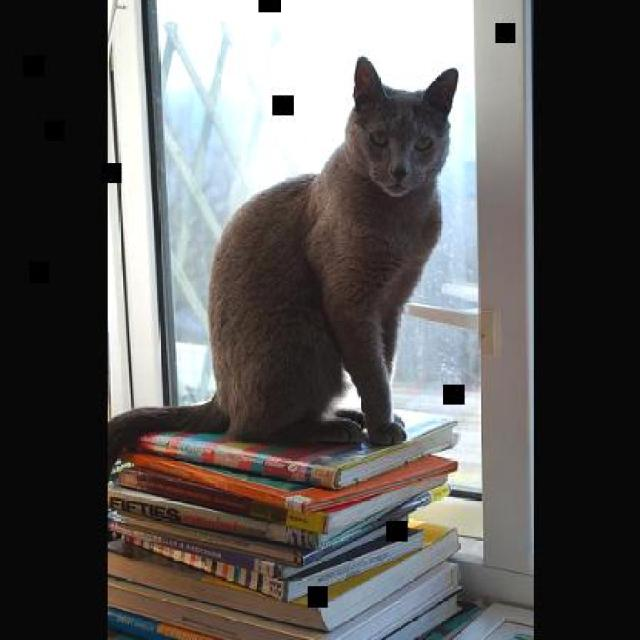unauthorized: (106, 54, 459, 466)
